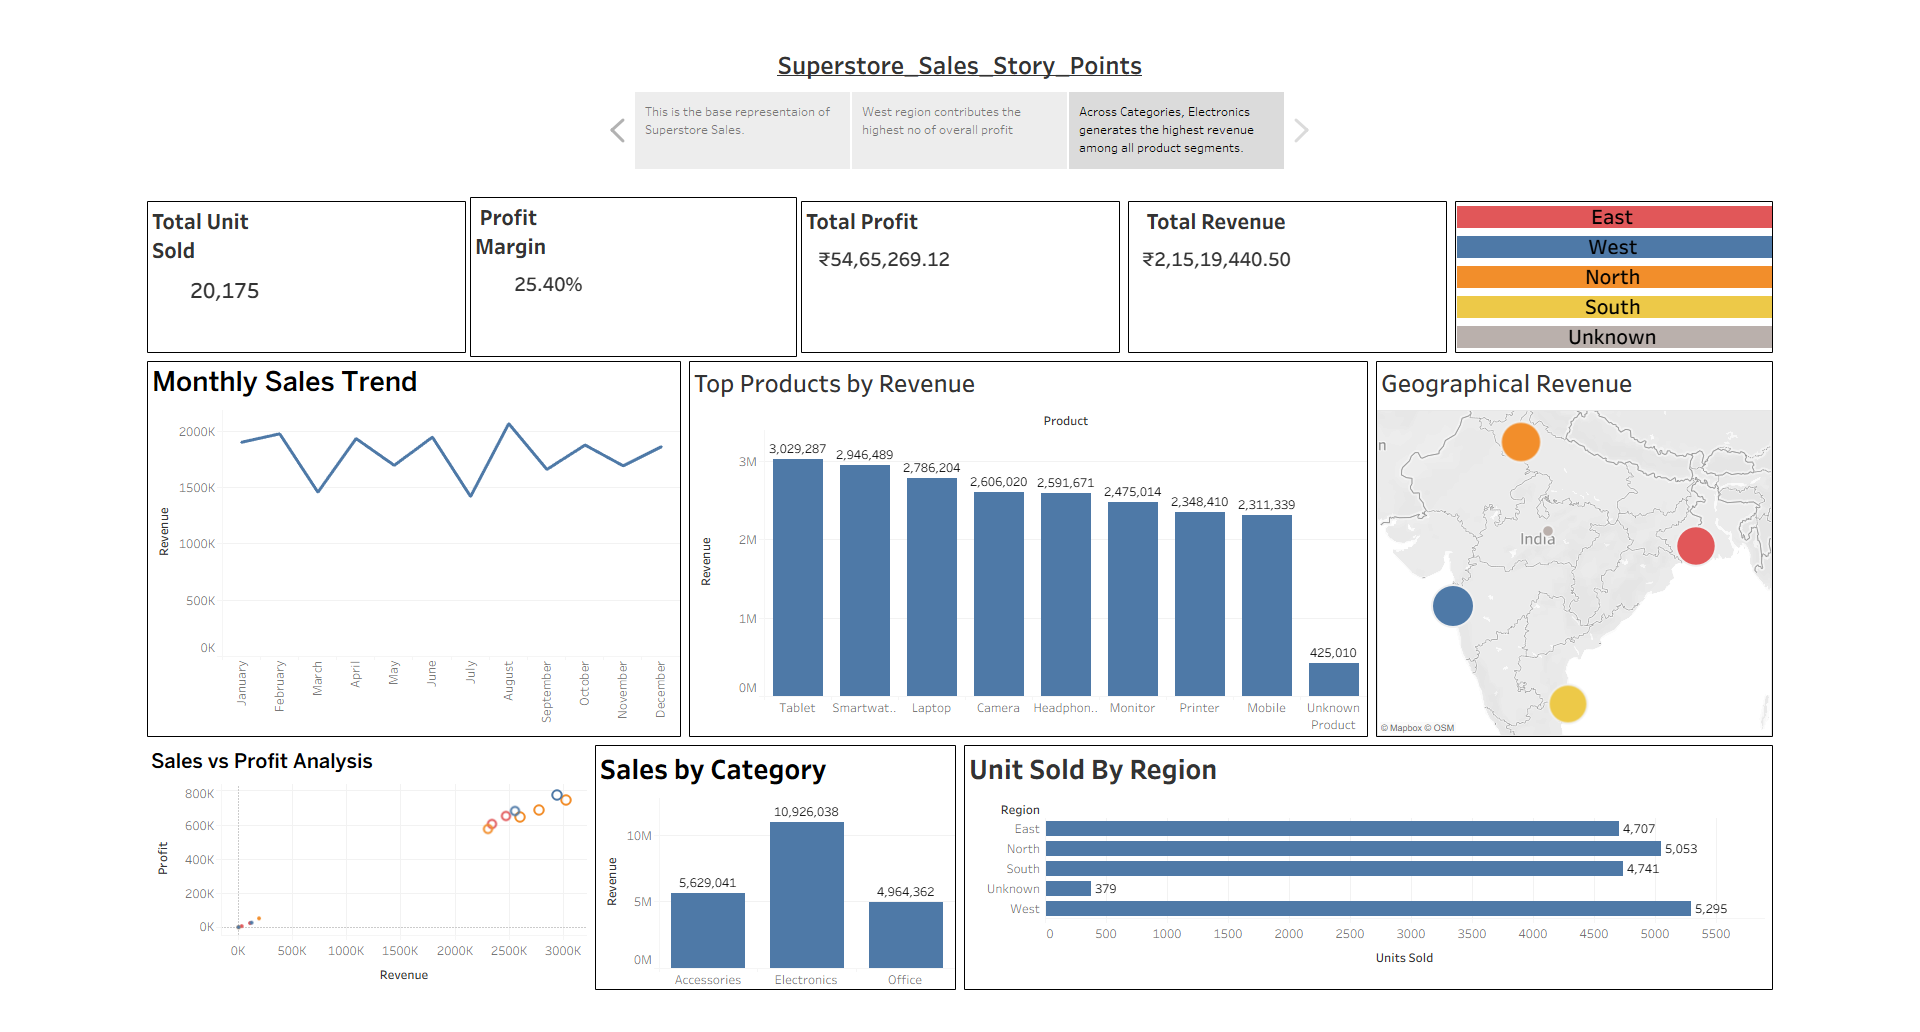

The dashboard page shown, as its layout file describes it:
{"tool":"tableau","page":{"name":"Dashboard 1","canvas":[1000,1000],"units":"permille","ordinal":0},"visuals":[{"type":"worksheet","title":"KPI 4","mark":"Automatic","box":[4.9,9.3,198.2,186.1]},{"type":"worksheet","title":"KPI 3","mark":"Automatic","box":[203,9.3,198.2,186.1]},{"type":"worksheet","title":"KPI 2","mark":"Automatic","box":[401.2,9.3,198.2,186.1]},{"type":"worksheet","title":"KPI 1","mark":"Automatic","box":[599.4,9.3,198.2,186.1]},{"type":"worksheet","title":"Region Filter","mark":"Automatic","rows":["Region"],"cols":["Calculation_1579770297634817"],"box":[797.6,9.3,197.6,186.1]},{"type":"worksheet","title":"Sales trend","mark":"Automatic","rows":["Revenue"],"cols":["Date"],"box":[4.9,195.3,328.4,479.1]},{"type":"worksheet","title":"Top products revenue","mark":"Automatic","rows":["Revenue"],"cols":["Product"],"box":[333.3,195.3,416.4,479.1]},{"type":"worksheet","title":"Map","mark":"Automatic","rows":["Latitude"],"cols":["Longitude"],"box":[749.7,195.3,245.5,479.1]},{"type":"worksheet","title":"Sales vs profit","mark":"Automatic","rows":["Profit"],"cols":["Revenue"],"box":[4.9,674.5,271.4,316.2]},{"type":"worksheet","title":"Sales category","mark":"Automatic","rows":["Revenue"],"cols":["Category"],"box":[276.3,674.5,223.7,316.2]},{"type":"worksheet","title":"unit sold","mark":"Automatic","rows":["Region"],"cols":["Units_Sold"],"box":[500,674.5,495.2,316.2]}]}

Visuals, with their boxes on the dashboard's canvas, which has no fixed pixel size, in thousandths of its width and height (x1, y1, x2, y2). These are canvas units, not pixel positions in the 1920x1032 screenshot, which may show the page scaled, cropped or inside an application window:
"KPI 4" worksheet: rect(5, 9, 203, 195)
"KPI 3" worksheet: rect(203, 9, 401, 195)
"KPI 2" worksheet: rect(401, 9, 599, 195)
"KPI 1" worksheet: rect(599, 9, 798, 195)
"Region Filter" worksheet: rect(798, 9, 995, 195)
"Sales trend" worksheet: rect(5, 195, 333, 674)
"Top products revenue" worksheet: rect(333, 195, 750, 674)
"Map" worksheet: rect(750, 195, 995, 674)
"Sales vs profit" worksheet: rect(5, 674, 276, 991)
"Sales category" worksheet: rect(276, 674, 500, 991)
"unit sold" worksheet: rect(500, 674, 995, 991)
